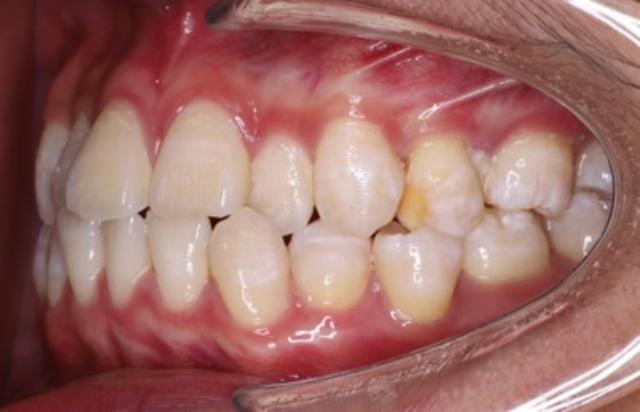canine class II 1/4: (210, 115, 374, 343)
molar class III 1/2: (462, 124, 578, 292)
